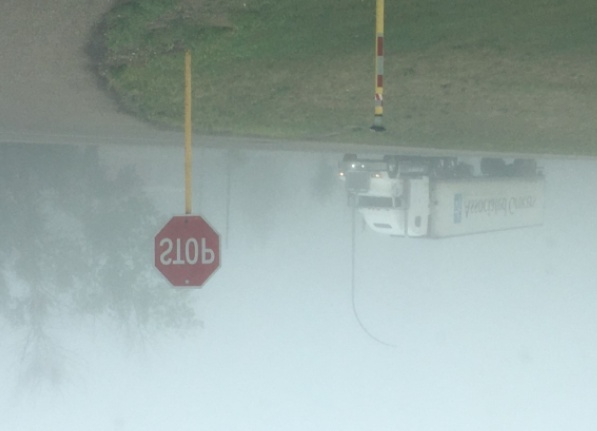Stop: (148, 210, 225, 289)
